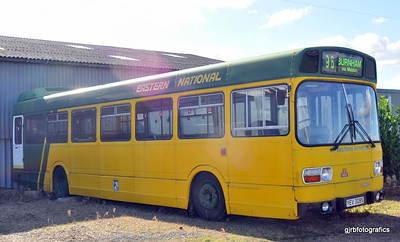bus: (12, 46, 384, 221)
